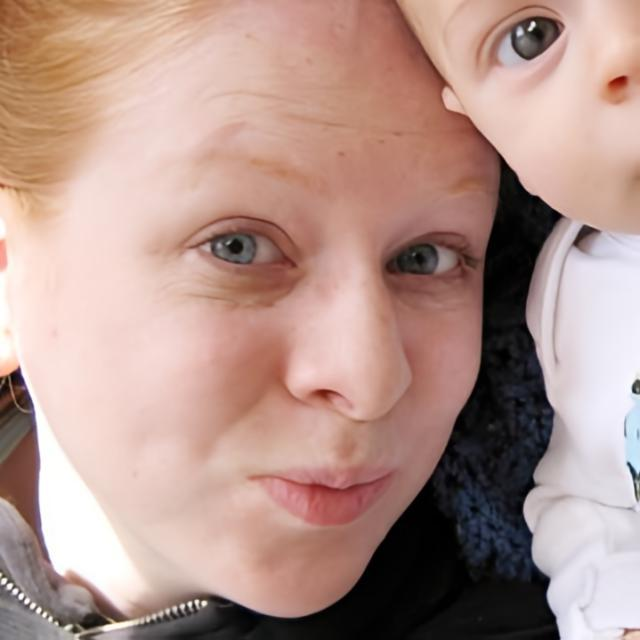happy: (395, 0, 640, 233)
surprise: (21, 0, 502, 619)
